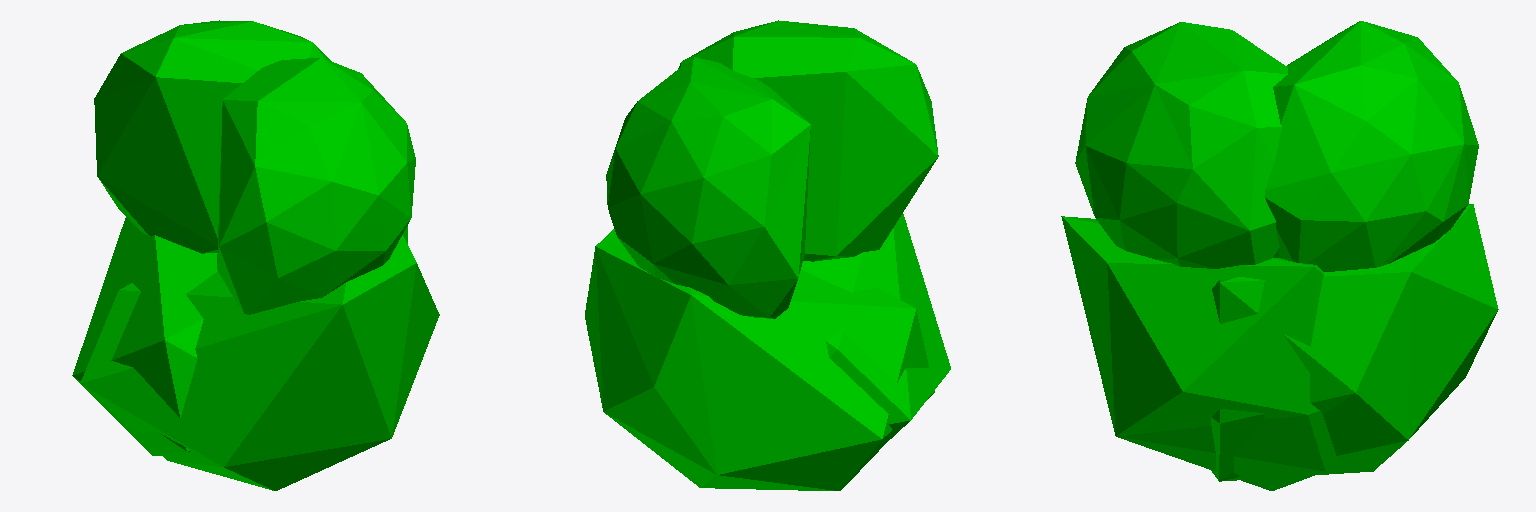
URDF robot description (talos_trunk):
<?xml version="1.0" ?>
<robot name="talos_trunk" xmlns:controller="http://playerstage.sourceforge.net/gazebo/xmlschema/#controller" xmlns:interface="http://playerstage.sourceforge.net/gazebo/xmlschema/#interface" xmlns:sensor="http://playerstage.sourceforge.net/gazebo/xmlschema/#sensor" xmlns:xacro="http://ros.org/wiki/xacro">

  <link name="torso_2_link">
    <inertial>
      <origin rpy="0.00000 0.00000 0.00000" xyz="-0.04551 -0.00053 0.16386"/>
      <mass value="17.55011"/>
      <inertia ixx="0.37376900000" ixy="0.00063900000" ixz="0.01219600000" iyy="0.24790200000" iyz="0.00000700000" izz="0.28140400000"/>
    </inertial>
    <visual>
      <origin rpy="0 0 0" xyz="0 0 0"/>
      <geometry>
        <mesh filename="package://talos_description/meshes/torso/torso_2.STL" scale="1 1 1"/>
      </geometry>
      <material name="LightGrey"/>
    </visual>    
    <visual>
      <origin rpy="0 0 0" xyz="0 0 0"/>
      <geometry>
        <mesh filename="package://talos-rbprm/meshes/talos_larm_rom.stl" scale="1 1 1"/>
      </geometry>
      <material name="GreenPale"/>
    </visual>
    <visual>
      <origin rpy="0 0 0" xyz="0 0 0"/>
      <geometry>
        <mesh filename="package://talos-rbprm/meshes/talos_rarm_rom.stl" scale="1 1 1"/>
      </geometry>
      <material name="GreenPale"/>
    </visual>
    <collision>
      <origin rpy="0 0 0" xyz="0 0 0"/>
      <geometry>
        <mesh filename="package://talos_description/meshes/torso/torso_2_collision.STL" scale="1 1 1"/>
      </geometry>
    </collision>
  </link>
  <!--************************-->
  <!--        TORSO_1  (PAN)  -->
  <!--************************-->
  <link name="torso_1_link">
    <inertial>
      <origin rpy="0.00000 0.00000 0.00000" xyz="0.00013 -0.00001 -0.01306"/>
      <mass value="3.02433"/>
      <inertia ixx="0.00759400000" ixy="0.00000100000" ixz="-0.00004800000" iyy="0.00429200000" iyz="-0.00000100000" izz="0.00749700000"/>
    </inertial>
    <visual>
      <origin rpy="0 0 0" xyz="0 0 0"/>
      <geometry>
        <mesh filename="package://talos_description/meshes/torso/torso_1.STL" scale="1 1 1"/>
      </geometry>
      <material name="LightGrey"/>
    </visual>
    <collision>
      <origin rpy="0 0 0" xyz="0 0 0"/>
      <geometry>
        <mesh filename="package://talos_description/meshes/torso/torso_1.STL" scale="1 1 1"/>
      </geometry>
    </collision>
  </link>
  <joint name="torso_1_joint" type="revolute">
    <parent link="base_link"/>
    <child link="torso_1_link"/>
    <origin rpy="0.0 0.0 0.0" xyz="0.0 0.0 0.0722"/>
    <axis xyz="0 0 1"/>
    <limit effort="78.0" lower="-1.308996939" upper="1.308996939" velocity="5.4"/>
    <dynamics damping="1.0" friction="1.0"/>
    <!-- <safety_controller k_position="20"
                         k_velocity="20"
                         soft_lower_limit="${-15.0 * deg_to_rad + torso_eps}"
                         soft_upper_limit="${ 45.0 * deg_to_rad - torso_eps}" /> -->
  </joint>
  <!--************************-->
  <!--        BASE_LINK       -->
  <!--************************-->
  <link name="base_link">
    <inertial>
      <origin rpy="0.00000 0.00000 0.00000" xyz="-0.08222 0.00838 -0.07261"/>
      <mass value="13.53810"/>
      <inertia ixx="0.06989000000" ixy="-0.00011700000" ixz="0.00023000000" iyy="0.03998200000" iyz="-0.00132500000" izz="0.08234500000"/>
    </inertial>
    <visual>
      <origin rpy="0 0 0" xyz="0 0 0"/>
      <geometry>
        <mesh filename="package://talos_description/meshes/torso/base_link.STL" scale="1 1 1"/>
      </geometry>
      <material name="LightGrey"/>
    </visual>    
    <visual>
      <origin rpy="0 0 0" xyz="0 0 0"/>
      <geometry>
        <mesh filename="package://talos-rbprm/meshes/talos_lleg_rom.stl" scale="1 1 1"/>
      </geometry>
      <material name="GreenPale"/>
    </visual>
    <visual>
      <origin rpy="0 0 0" xyz="0 0 0"/>
      <geometry>
        <mesh filename="package://talos-rbprm/meshes/talos_rleg_rom.stl" scale="1 1 1"/>
      </geometry>
      <material name="GreenPale"/>
    </visual>
    <collision>
      <origin rpy="0 0 0" xyz="0 0 0"/>
      <geometry>
        <mesh filename="package://talos_description/meshes/torso/base_link_collision.STL" scale="1 1 1"/>
      </geometry>
    </collision>
  </link>
  <joint name="torso_2_joint" type="revolute">
    <parent link="torso_1_link"/>
    <child link="torso_2_link"/>
    <origin rpy="0.0 0.0 0.0" xyz="0.0 0.0 0.0"/>
    <axis xyz="0 1 0"/>
    <limit effort="78.0" lower="-0.261799387799" upper="0.785398163397" velocity="5.4"/>
    <dynamics damping="1.0" friction="1.0"/>
    <!-- <safety_controller k_position="20"
                          k_velocity="20"
                          soft_lower_limit="${-75.00000 * deg_to_rad + eps_radians}"
                          soft_upper_limit="${75.00000 * deg_to_rad - eps_radians}" /> -->
  </joint>
  <link name="head_1_link">
    <inertial>
      <origin rpy="0.00000 0.00000 0.00000" xyz="0.00120 0.00145 0.02165"/>
      <mass value="0.65988"/>
      <inertia ixx="0.00122100000" ixy="-0.00000400000" ixz="0.00007000000" iyy="0.00092400000" iyz="-0.00004100000" izz="0.00103300000"/>
    </inertial>
    <visual>
      <origin rpy="0 0 0" xyz="0 0 0"/>
      <geometry>
        <mesh filename="package://talos_description/meshes/head/head_1.stl" scale="1 1 1"/>
      </geometry>
      <material name="DarkGrey"/>
    </visual>
    <collision>
      <origin rpy="0 0 0" xyz="0 0 0"/>
      <geometry>
        <mesh filename="package://talos_description/meshes/head/head_1_collision.stl" scale="1 1 1"/>
      </geometry>
    </collision>
  </link>
  <joint name="head_1_joint" type="revolute">
    <parent link="torso_2_link"/>
    <child link="head_1_link"/>
    <origin rpy="0.0 0.0 0.0" xyz="0.00000 0.00000 0.31600"/>
    <axis xyz="0 1 0"/>
    <limit effort="8.0" lower="-0.261799387799" upper="0.785398163397" velocity="1.0"/>
  </joint>
  <link name="head_2_link">
    <inertial>
      <origin rpy="0.00000 0.00000 0.00000" xyz="-0.01036 -0.00037 0.13778"/>
      <mass value="1.40353"/>
      <inertia ixx="0.00722500000" ixy="-0.00002500000" ixz="0.00032900000" iyy="0.00687300000" iyz="0.00004400000" izz="0.00437300000"/>
    </inertial>
    <visual>
      <origin rpy="0 0 0" xyz="0 0 0"/>
      <geometry>
        <mesh filename="package://talos_description/meshes/head/head_2.stl" scale="1 1 1"/>
      </geometry>
      <material name="LightGrey"/>
    </visual>
    <collision>
      <origin rpy="0 0 0" xyz="0 0 0"/>
      <geometry>
        <mesh filename="package://talos_description/meshes/head/head_2_collision.stl" scale="1 1 1"/>
      </geometry>
    </collision>
  </link>
  <joint name="head_2_joint" type="revolute">
    <parent link="head_1_link"/>
    <child link="head_2_link"/>
    <origin rpy="0.0 0.0 0.0" xyz="0.00000 0.00000 0.00000"/>
    <axis xyz="0 0 1"/>
    <limit effort="4.0" lower="-1.308996939" upper="1.308996939" velocity="1.0"/>
  </joint>
  <!-- define global properties -->
  <!-- <xacro:property name="M_PI" value="3.1415926535897931" /> -->
  <!-- Materials for visualization -->
  <material name="Blue">
    <color rgba="0.0 0.0 0.8 1.0"/>
  </material>
  <material name="Green">
    <color rgba="0.0 0.8 0.0 1.0"/>
  </material>
  <material name="GreenPale">
    <color rgba="0.0 0.8 0.0 0.3"/>
  </material>
  <material name="Grey">
    <color rgba="0.7 0.7 0.7 1.0"/>
  </material>
  <material name="LightGrey">
    <color rgba="0.9 0.9 0.9 1.0"/>
  </material>
  <material name="DarkGrey">
    <color rgba="0.2 0.2 0.2 1.0"/>
  </material>
  <material name="Red">
    <color rgba="0.8 0.0 0.0 1.0"/>
  </material>
  <material name="White">
    <color rgba="1.0 1.0 1.0 1.0"/>
  </material>
  <material name="Orange">
    <color rgba="1.0 0.5 0.0 1.0"/>
  </material>
</robot>

--- Render facts (derived) ---
Views: 3 orthographic renders of the robot side by side, from view 1: azimuth 30°, elevation 25°; view 2: azimuth 150°, elevation 25°; view 3: azimuth 270°, elevation 25°.
Robot: talos_trunk — 5 links, 4 joints (4 revolute); root link base_link; default pose: all joints at 0.
Visible links, largest first — view 1: torso_2_link, base_link; view 2: torso_2_link, base_link; view 3: torso_2_link, base_link.
Boxes of the visible links, x1,y1,x2,y2 form: torso_2_link: (94, 20, 415, 314); base_link: (72, 217, 439, 490); torso_2_link: (606, 20, 938, 318); base_link: (585, 214, 950, 490); torso_2_link: (1075, 21, 1478, 271); base_link: (1061, 204, 1498, 490).
Size in the robot's own frame: 1.54 by 1.82 by 1.97 metres.
4 mesh visuals loaded from 9 distinct referenced files (4 binary STL); not drawn: 5 (reference not matched to a file when rendering).